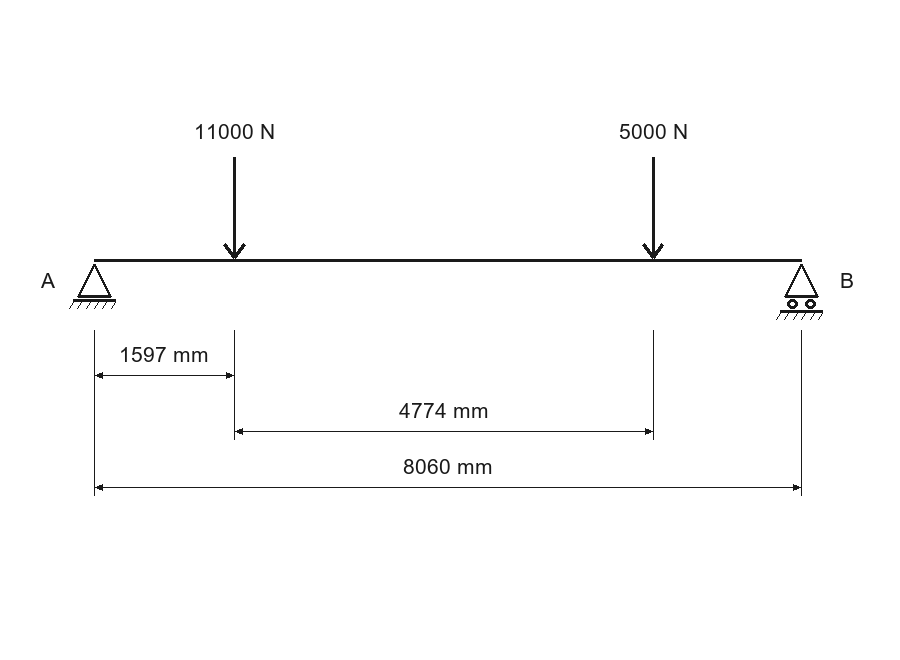pin_support: (69, 264, 116, 309)
point_load: (223, 157, 246, 259), (642, 157, 664, 259)
roller_support: (776, 264, 823, 320)
